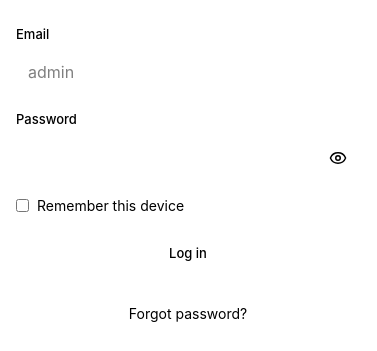
Scenario: Login › only maps the exact admin alias when local login is enabled
Type "administrator" into the field labelled "Email".
click(188, 72); type("administrator")  # box x1=16 y1=50 x2=360 y2=94
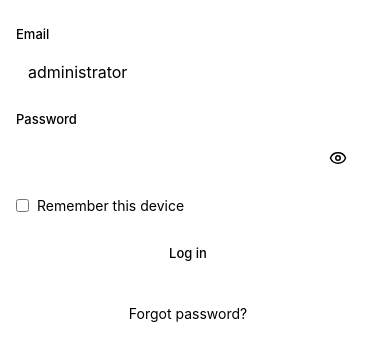
Type "admin" into the password field labelled "Password".
click(188, 158); type("admin")  # box x1=16 y1=136 x2=360 y2=180
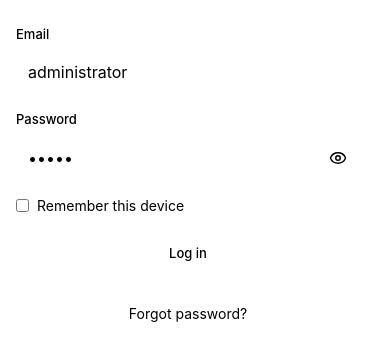
Click the button "Log in".
click(188, 254)  # box x1=16 y1=232 x2=360 y2=276
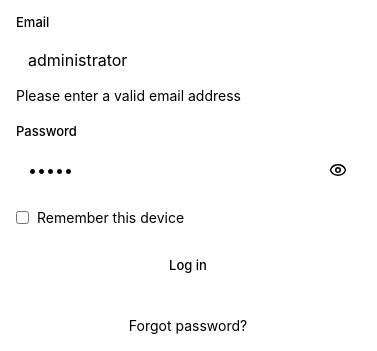
Now the text "Please enter a valid email address" is shown, box x1=16 y1=87 x2=241 y2=104
